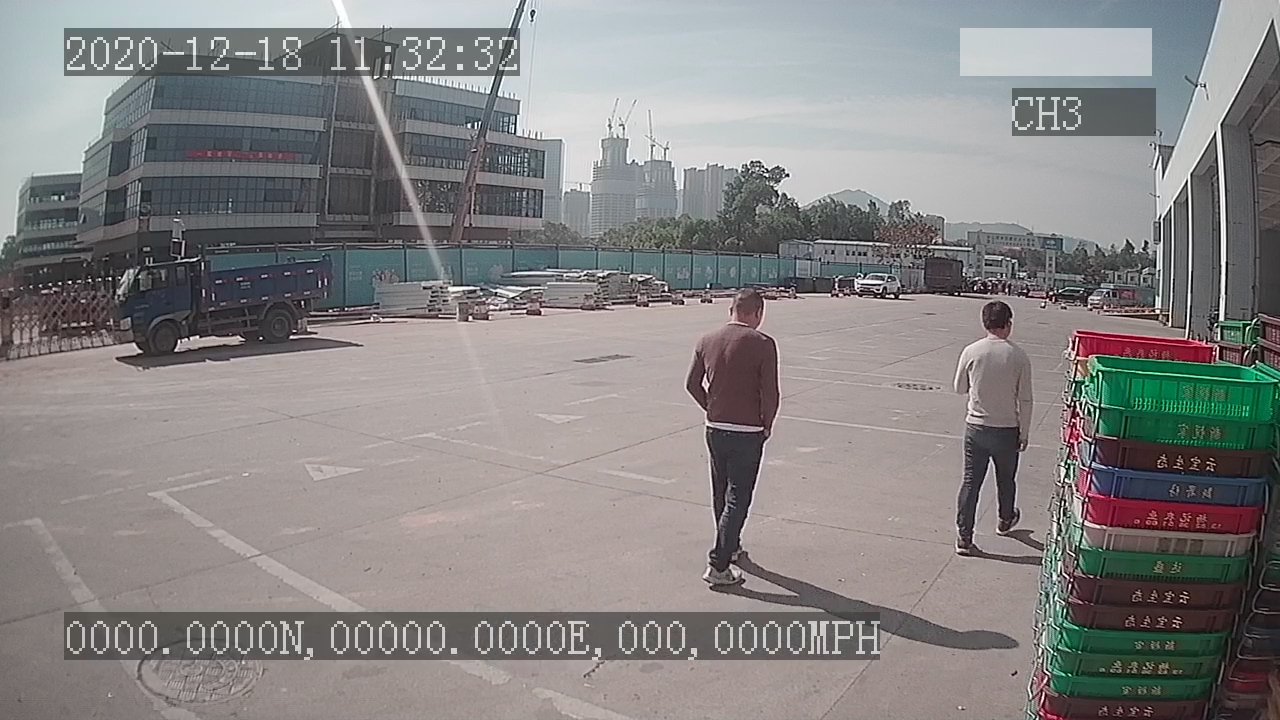person: (685, 287, 783, 588), (952, 298, 1036, 554)
